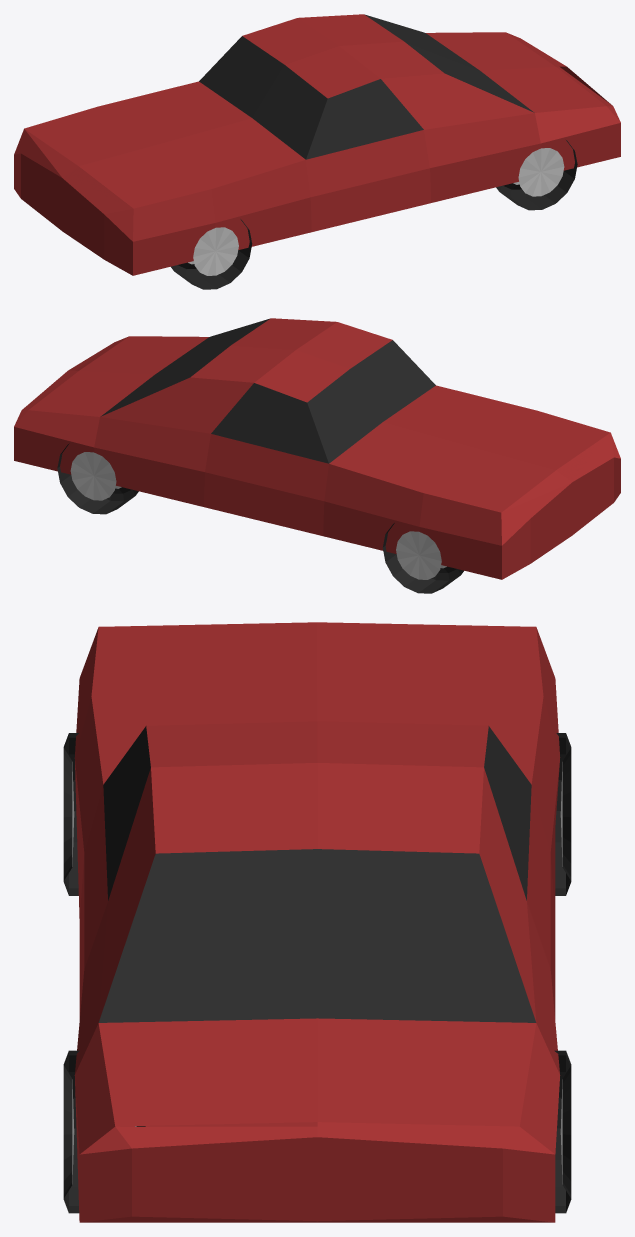
The model's file is muscle.glb.
3 views of the same model, one above another, from view 1: azimuth 30°, elevation 25°; view 2: azimuth 150°, elevation 25°; view 3: azimuth 270°, elevation 25° (orthographic). The views are drawn at different scales.
Parts seen in each view (by area): view 1: Chassis, Wheel_3, Wheel_1; view 2: Chassis, Wheel_4, Wheel_2; view 3: Chassis, Wheel_4, Wheel_2, Wheel_1, Wheel_3.
Part boxes in pixels (x1,y1,x2,y2): Chassis: (14, 14, 620, 275); Wheel_3: (171, 219, 252, 289); Wheel_1: (496, 140, 577, 210); Chassis: (14, 318, 620, 579); Wheel_4: (382, 523, 463, 593); Wheel_2: (57, 443, 138, 514); Chassis: (74, 622, 560, 1222); Wheel_4: (555, 733, 571, 895); Wheel_2: (554, 1050, 571, 1213); Wheel_1: (63, 1050, 145, 1213); Wheel_3: (63, 733, 78, 895).
Size of the model in its own units: 4.65 by 1.35 by 2.03.
